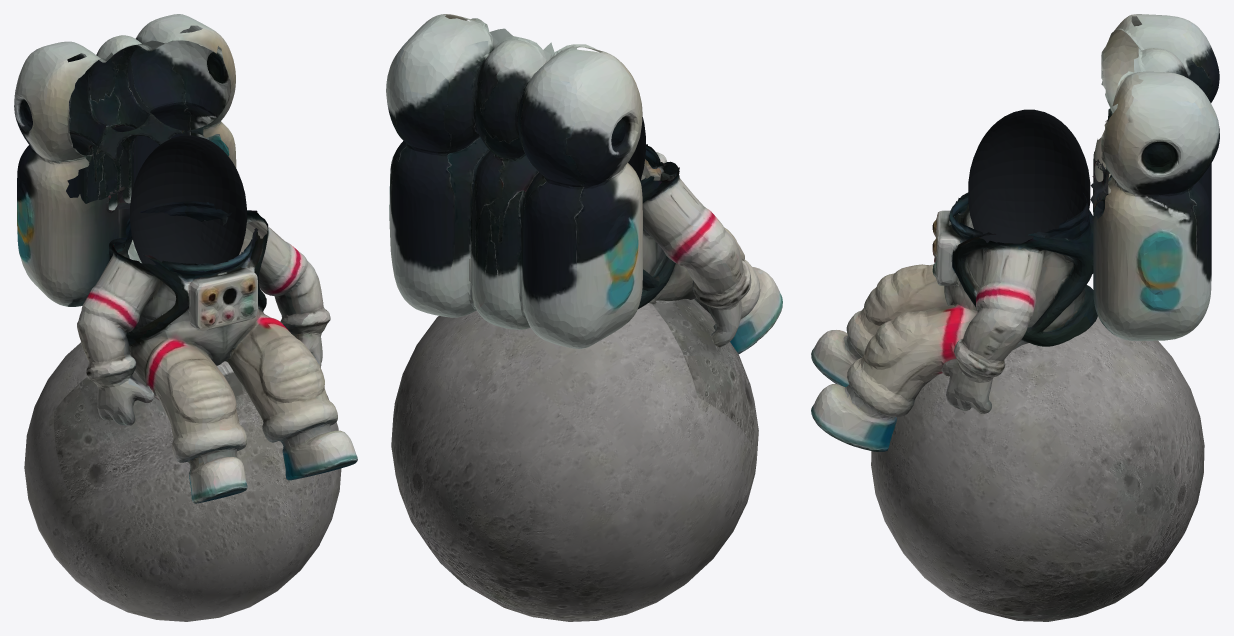
Rendered from astro-moon.glb.
3 views of the same model, side by side, from view 1: azimuth 30°, elevation 25°; view 2: azimuth 150°, elevation 25°; view 3: azimuth 270°, elevation 25° (orthographic). The views are drawn at different scales.
Visible parts, largest first — view 1: Moon_Cube005_1, Moon_Cube005_2, Moon_Cube005; view 2: Moon_Cube005_2, Moon_Cube005_1; view 3: Moon_Cube005_1, Moon_Cube005_2, Moon_Cube005.
Boxes of the visible parts, <box> form: Moon_Cube005_1: <box>14,14,357,503</box>; Moon_Cube005_2: <box>24,342,341,621</box>; Moon_Cube005: <box>130,135,246,264</box>; Moon_Cube005_2: <box>391,299,758,621</box>; Moon_Cube005_1: <box>386,14,782,353</box>; Moon_Cube005_1: <box>811,14,1219,451</box>; Moon_Cube005_2: <box>871,316,1204,621</box>; Moon_Cube005: <box>968,109,1090,243</box>.
Size of the model in its own units: 1.07 by 1.98 by 1.32.
Materials: 3 (2 with a texture image).
